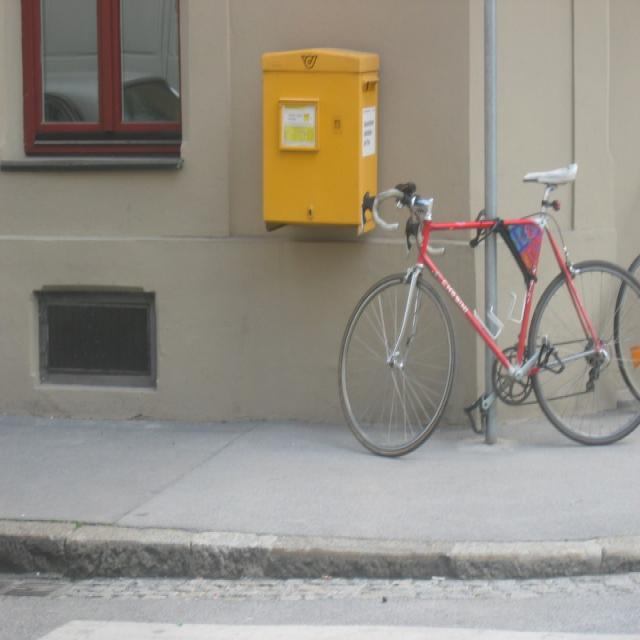bicycle: (337, 161, 639, 456)
